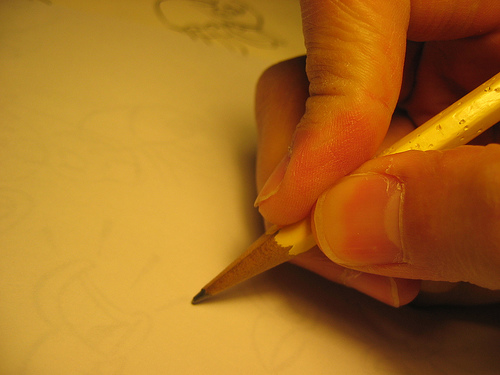pen_tip: (155, 225, 319, 317)
